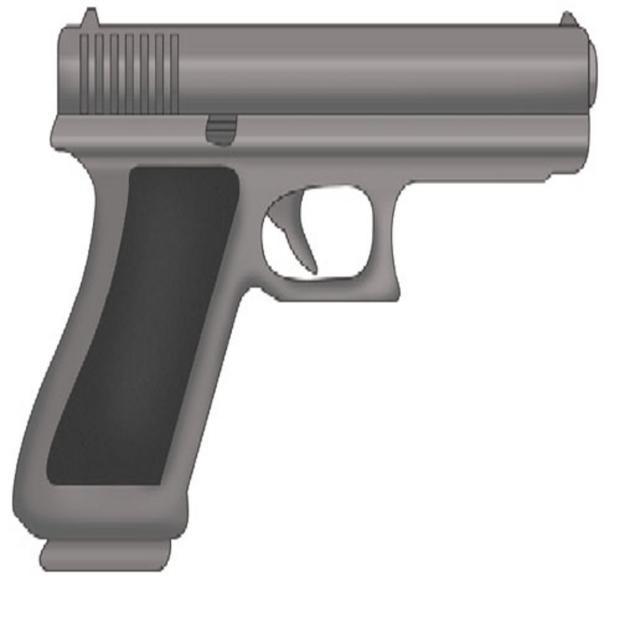gun: (24, 7, 596, 578)
